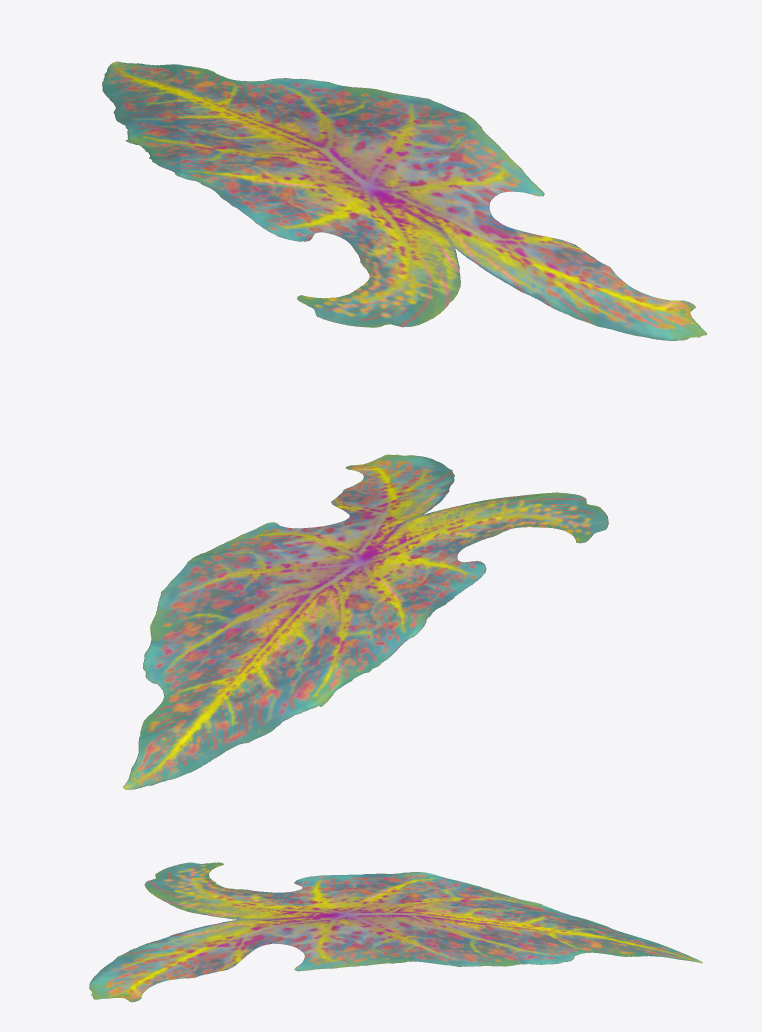
File: Sickle Wort Leaf.fbx
The picture shows the model from 3 angles, top to bottom: view 1: azimuth 30°, elevation 25°; view 2: azimuth 150°, elevation 25°; view 3: azimuth 270°, elevation 25°; orthographic projection. The views are drawn at different scales.
Parts seen in each view (by area): view 1: Sickle Wort Leaf; view 2: Sickle Wort Leaf; view 3: Sickle Wort Leaf.
Part boxes in pixels (<box>): Sickle Wort Leaf: <box>102,61,706,340</box>; Sickle Wort Leaf: <box>123,454,608,789</box>; Sickle Wort Leaf: <box>89,862,702,1002</box>.
Size of the model in its own units: 61.98 by 13.1 by 146.
